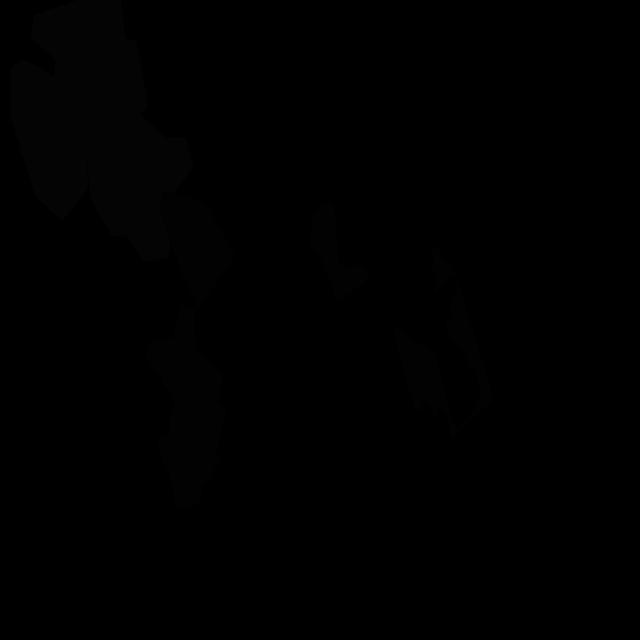cardboard: (394, 243, 494, 439), (146, 303, 227, 509), (160, 191, 236, 309), (310, 201, 372, 301)
soft_plastic: (10, 0, 146, 221), (85, 81, 194, 262)
